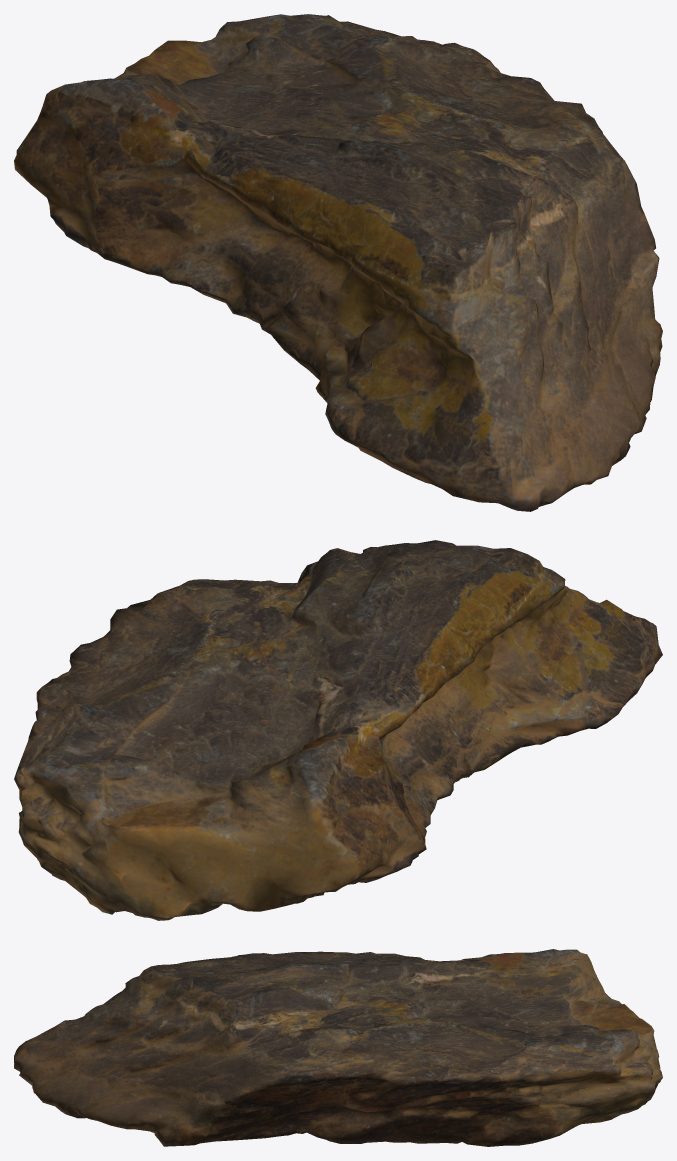
File: rock_09.glb
3 views of the same model, one above another, from view 1: azimuth 30°, elevation 25°; view 2: azimuth 150°, elevation 25°; view 3: azimuth 270°, elevation 25° (orthographic). The views are drawn at different scales.
Parts seen in each view (by area): view 1: rock_09_LOD0_lo; view 2: rock_09_LOD0_lo; view 3: rock_09_LOD0_lo.
Boxes of the visible parts, <box> form: rock_09_LOD0_lo: <box>14,14,662,511</box>; rock_09_LOD0_lo: <box>14,540,662,920</box>; rock_09_LOD0_lo: <box>14,949,662,1146</box>.
Bounding box in the file's own units: 0.074 × 0.0329 × 0.1446.
Materials: 1 (1 with a texture image).
